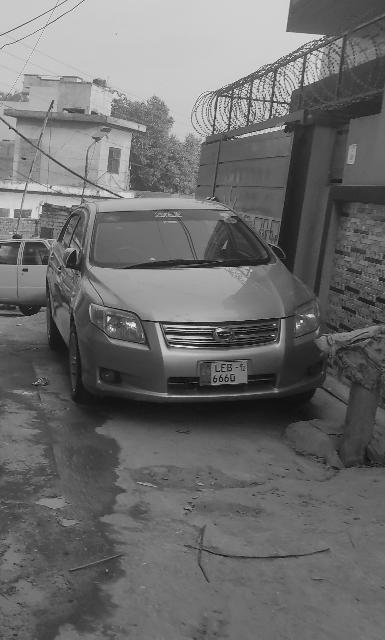Number: (213, 362, 237, 386)
